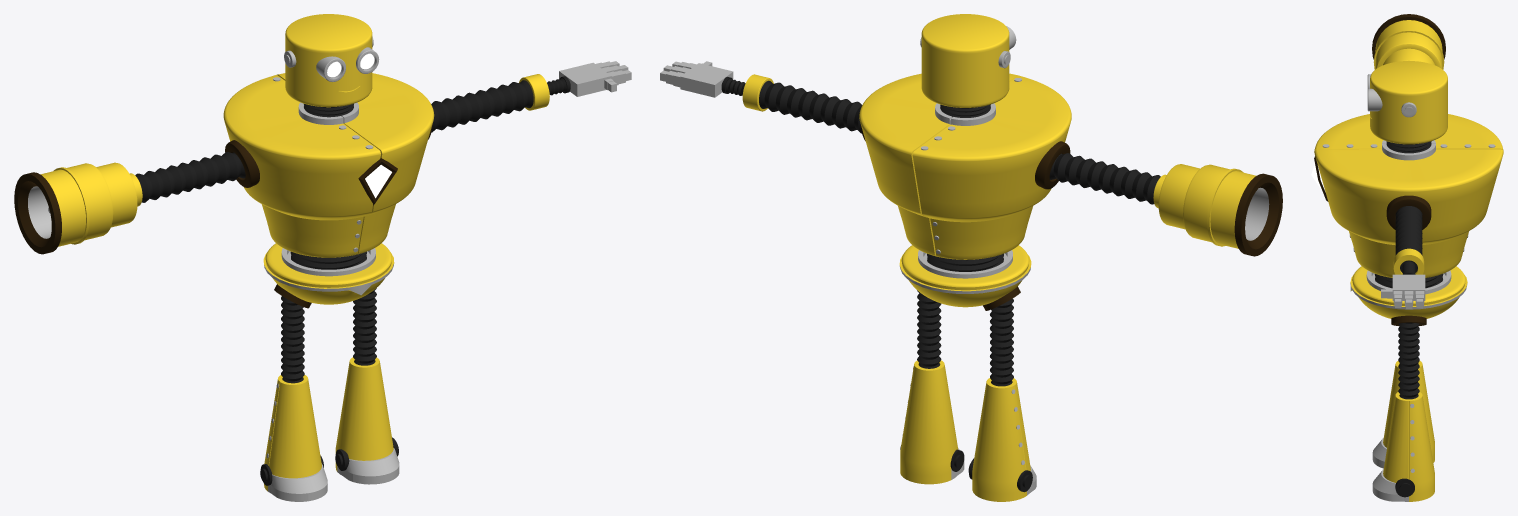
The model's file is Final-Yellow.glb.
3 renders of one model, left to right at view 1: azimuth 30°, elevation 25°; view 2: azimuth 150°, elevation 25°; view 3: azimuth 270°, elevation 25°, orthographic. The views are drawn at different scales.
Parts seen in each view (by area): view 1: body.003, weapon, head, foot-left, foot-right, torso, arms-left, arms-right, legs-left, hand-rt, legs-right, eyes (+3 smaller); view 2: body.003, weapon, head, foot-right, foot-left, torso, arms-left, arms-right, legs-left, hand-rt, legs-right, hand (+2 smaller); view 3: body.003, head, foot-right, weapon, torso, legs-right, foot-left, hand-rt, arms-right, shoulder-right, hand, neck (+4 smaller).
Part boxes in pixels (x1,y1,x2,y2): body.003: (223, 73, 434, 257); weapon: (14, 162, 137, 254); head: (285, 14, 372, 107); foot-left: (264, 375, 327, 501); foot-right: (335, 357, 399, 484); torso: (263, 243, 394, 304); arms-left: (135, 152, 245, 202); arms-right: (431, 80, 533, 132); legs-left: (281, 296, 304, 383); hand-rt: (559, 61, 631, 96); legs-right: (353, 288, 376, 365); eyes: (316, 47, 379, 81); body.003: (859, 73, 1071, 259); weapon: (1158, 164, 1282, 256); head: (921, 14, 1009, 107); foot-right: (900, 360, 964, 484); foot-left: (972, 378, 1036, 501); torso: (899, 245, 1031, 307); arms-left: (1049, 153, 1160, 204); arms-right: (759, 80, 862, 133); legs-left: (990, 298, 1013, 386); hand-rt: (660, 61, 733, 97); legs-right: (917, 290, 941, 368); hand: (721, 74, 773, 111); body.003: (1314, 114, 1503, 277); head: (1370, 61, 1447, 144); foot-right: (1372, 392, 1434, 501); weapon: (1372, 14, 1445, 69); torso: (1350, 266, 1467, 318); legs-right: (1398, 322, 1419, 399); foot-left: (1372, 361, 1434, 468); hand-rt: (1381, 274, 1425, 309); arms-right: (1395, 206, 1422, 255); shoulder-right: (1386, 195, 1431, 229); hand: (1393, 248, 1424, 274); neck: (1386, 141, 1431, 153).
Size of the model in its own units: 5.47 by 3.93 by 1.72.
